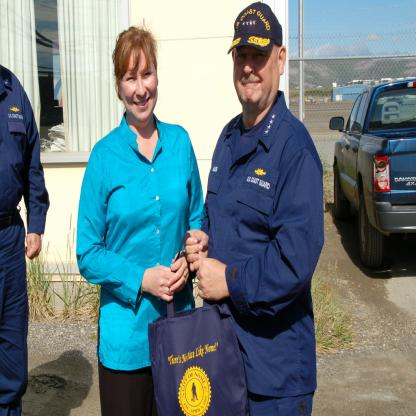Car: (338, 68, 416, 280)
